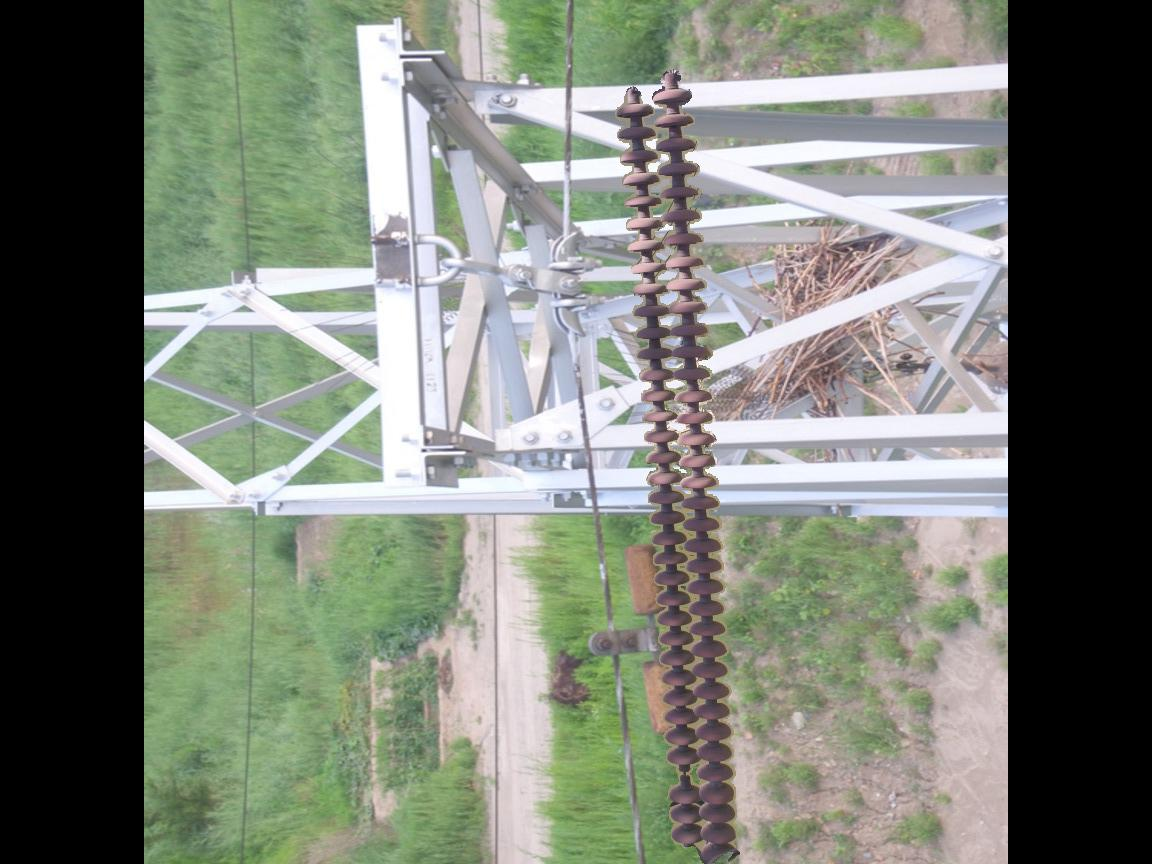insulator: (612, 80, 744, 864)
insulator_stringdrop: (663, 744, 703, 808)
